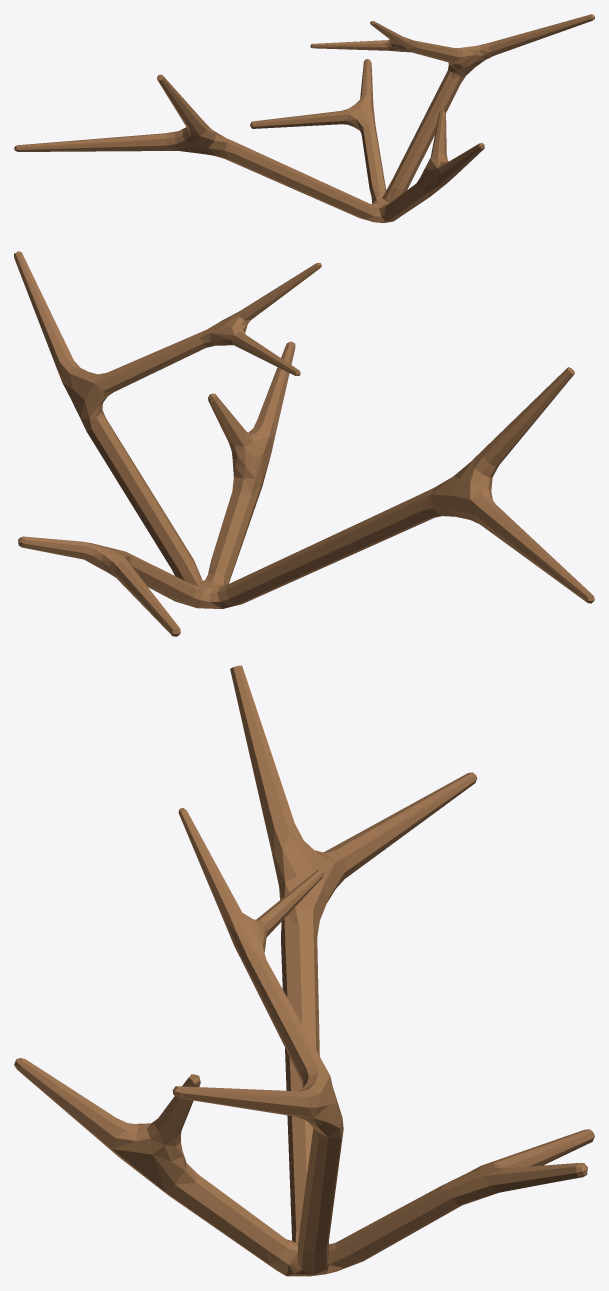
Rendered from Bush_9 Withered.fbx.
3 renders of one model, top to bottom at view 1: azimuth 30°, elevation 25°; view 2: azimuth 150°, elevation 25°; view 3: azimuth 270°, elevation 25°, orthographic. The views are drawn at different scales.
Parts seen in each view (by area): view 1: Bush9Withered_mesh; view 2: Bush9Withered_mesh; view 3: Bush9Withered_mesh.
Boxes of the visible parts, x1,y1,x2,y2 form: Bush9Withered_mesh: (14, 14, 594, 222); Bush9Withered_mesh: (14, 251, 594, 636); Bush9Withered_mesh: (14, 665, 594, 1276).
Size of the model in its own units: 105 by 46.74 by 58.08.
